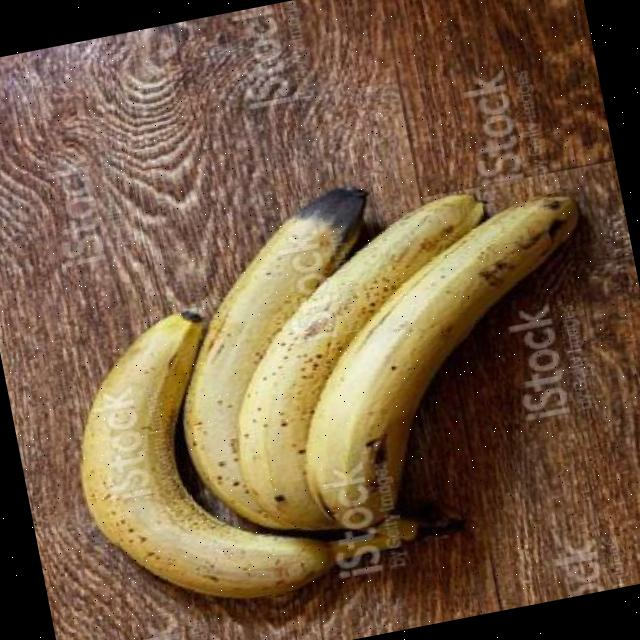banana: (80, 184, 582, 599)
